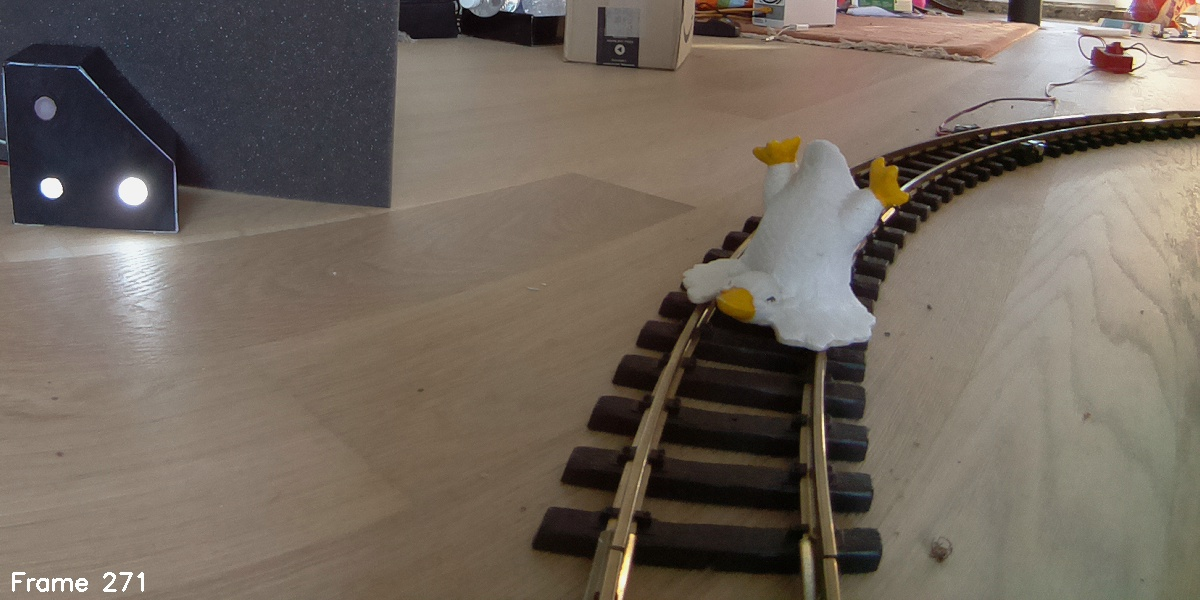Ente: (678, 134, 911, 354)
Halt: (4, 44, 180, 230)
